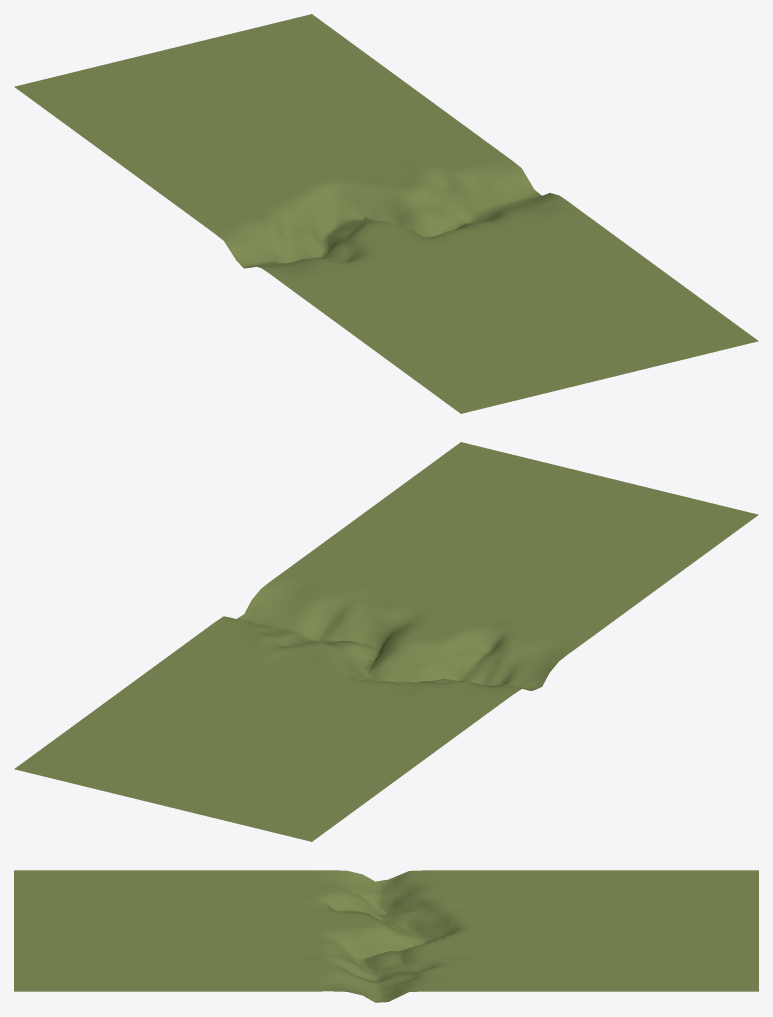
File: 2_2 Tile_3_smooth.fbx
3 views of the same model, one above another, from view 1: azimuth 30°, elevation 25°; view 2: azimuth 150°, elevation 25°; view 3: azimuth 270°, elevation 25° (orthographic). The views are drawn at different scales.
Visible parts, largest first — view 1: Tile 5.001; view 2: Tile 5.001; view 3: Tile 5.001.
Part boxes in pixels (left/top/right/bottom): Tile 5.001: left=14, top=14, right=758, bottom=413; Tile 5.001: left=14, top=442, right=758, bottom=841; Tile 5.001: left=14, top=870, right=758, bottom=1002.
Bounding box in the file's own units: 5000 × 435 × 12991.
